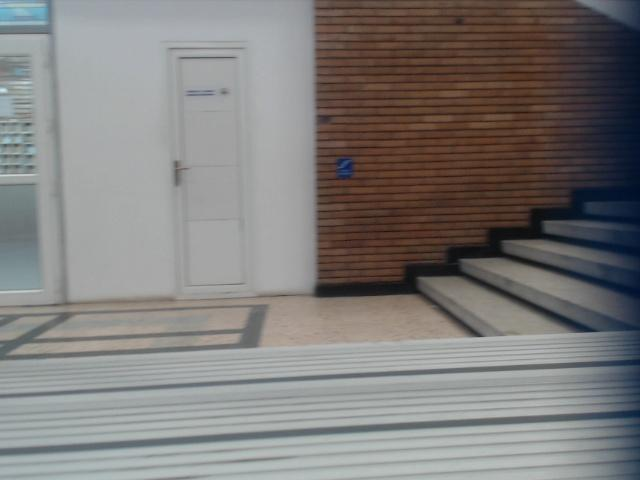rampUp: (0, 333, 639, 479)
